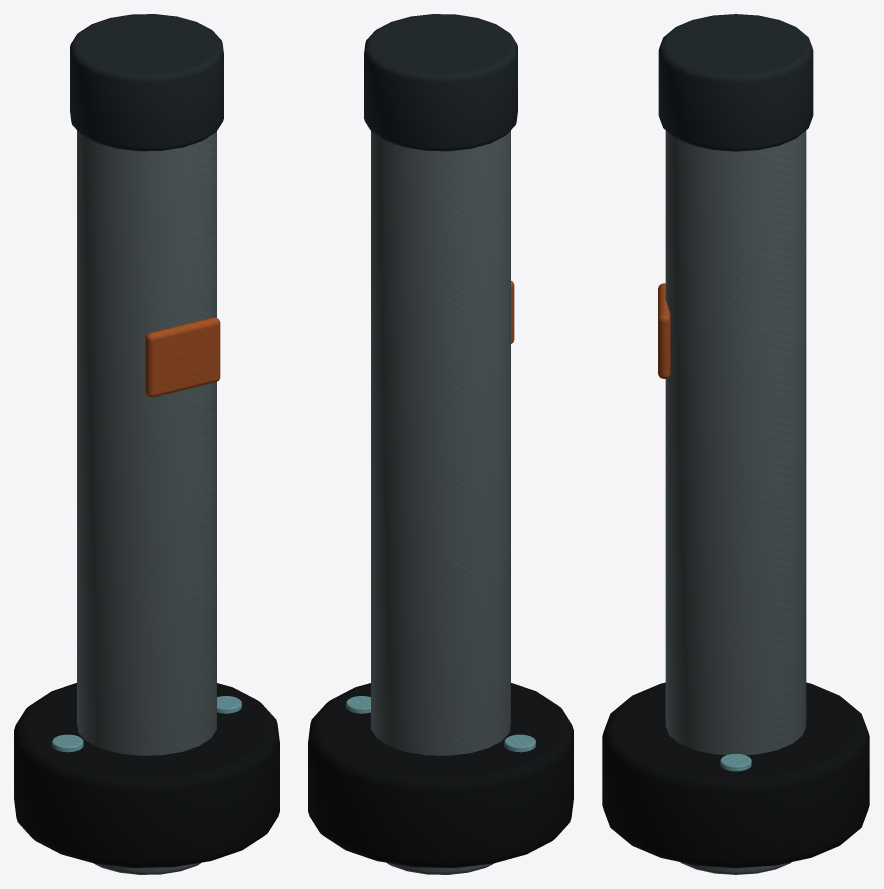
The model's file is WallBollard.fbx.
The picture shows the model from 3 angles, left to right: view 1: azimuth 30°, elevation 25°; view 2: azimuth 150°, elevation 25°; view 3: azimuth 270°, elevation 25°; orthographic projection.
Visible parts, largest first — view 1: WallBollard_Mesh; view 2: WallBollard_Mesh; view 3: WallBollard_Mesh.
Part boxes in pixels (left/top/right/bottom): WallBollard_Mesh: left=14, top=14, right=279, bottom=874; WallBollard_Mesh: left=308, top=14, right=573, bottom=874; WallBollard_Mesh: left=602, top=14, right=869, bottom=874.
Bounding box in the file's own units: 38 × 126 × 38.
Materials: 5 (5 with a texture image).
